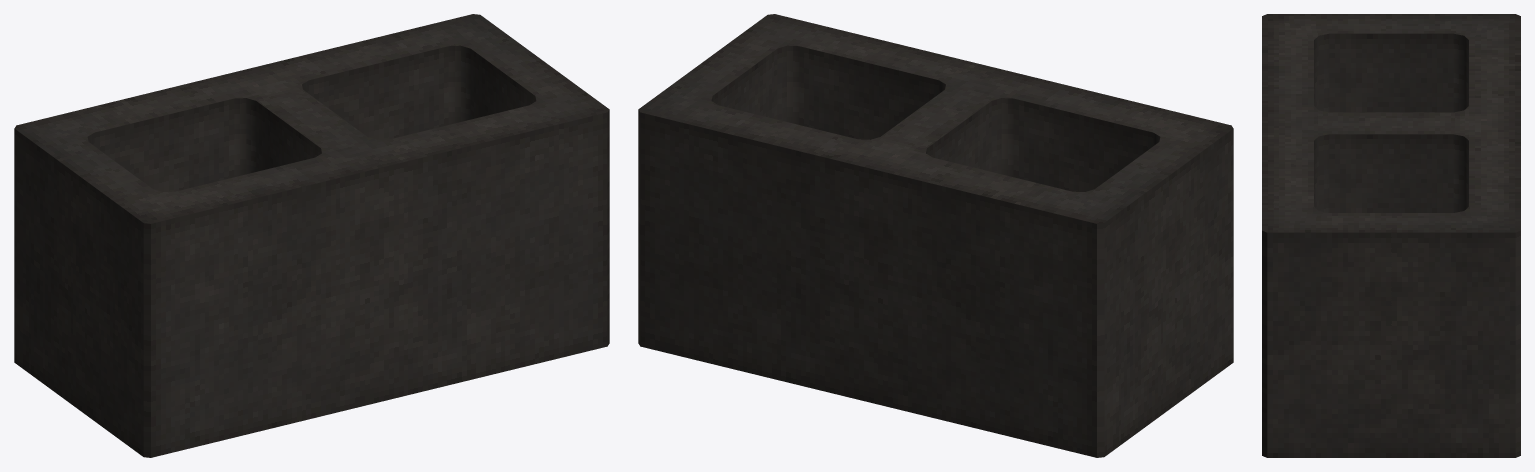
The model's file is concrete_block_1.glb.
The picture shows the model from 3 angles, left to right: view 1: azimuth 30°, elevation 25°; view 2: azimuth 150°, elevation 25°; view 3: azimuth 270°, elevation 25°; orthographic projection. The views are drawn at different scales.
Parts seen in each view (by area): view 1: concrete_block_1; view 2: concrete_block_1; view 3: concrete_block_1.
Part boxes in pixels (x1,y1,x2,y2): concrete_block_1: (14, 14, 609, 457); concrete_block_1: (638, 14, 1233, 457); concrete_block_1: (1262, 14, 1520, 457).
Bounding box in the file's own units: 0.432 × 0.2074 × 0.216.
1 material, 1 textured.
